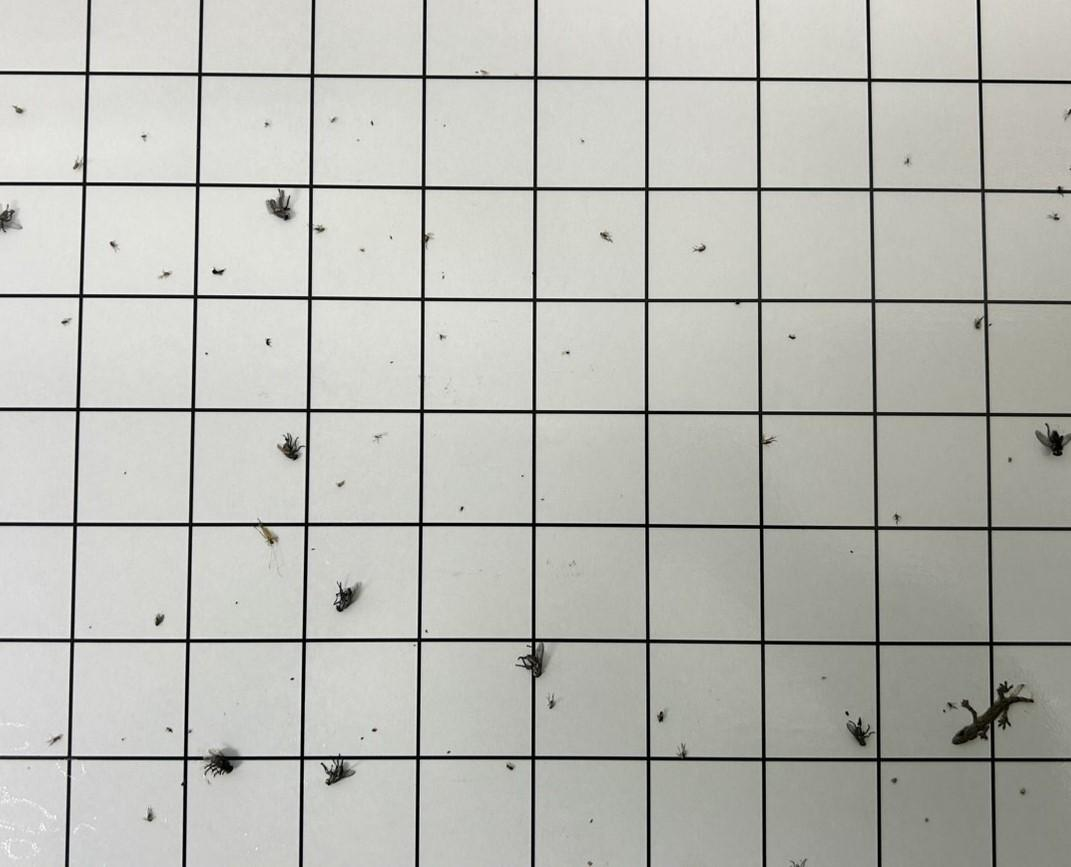fly: (1033, 421, 1071, 459), (318, 751, 358, 787), (515, 640, 547, 679), (265, 185, 296, 223), (200, 748, 234, 780), (328, 579, 359, 612), (275, 431, 307, 462), (846, 719, 878, 749), (0, 201, 24, 235)
test: (950, 677, 1039, 749), (253, 515, 281, 546), (141, 805, 159, 824), (673, 741, 689, 761), (598, 228, 615, 245), (46, 731, 64, 747), (543, 693, 558, 712), (420, 231, 436, 248), (371, 431, 388, 446), (158, 266, 175, 281), (691, 241, 707, 256), (69, 155, 85, 170), (760, 433, 777, 447), (152, 611, 166, 628), (209, 265, 228, 277), (107, 239, 122, 254), (972, 313, 985, 330), (310, 221, 327, 234), (10, 103, 27, 116), (891, 511, 903, 527), (655, 709, 667, 724), (1055, 183, 1067, 197), (1048, 210, 1061, 222), (262, 335, 274, 348), (503, 760, 515, 773), (60, 315, 73, 327), (164, 723, 175, 737), (474, 67, 489, 77), (334, 478, 347, 489), (1018, 786, 1029, 797), (140, 132, 151, 143), (731, 296, 741, 308), (328, 115, 340, 125), (903, 155, 912, 168), (787, 331, 797, 342), (945, 699, 956, 709), (842, 707, 852, 718), (921, 814, 931, 825), (890, 776, 900, 786), (940, 706, 949, 717), (588, 815, 597, 826), (179, 778, 188, 789), (438, 332, 447, 342), (1005, 455, 1015, 464), (440, 273, 449, 283), (358, 245, 367, 254), (585, 858, 594, 867), (370, 726, 379, 735), (187, 726, 196, 735), (262, 120, 271, 129), (367, 119, 377, 127), (563, 348, 572, 356), (289, 674, 297, 683), (444, 748, 452, 757), (819, 674, 828, 682), (458, 504, 466, 512), (387, 233, 394, 242), (422, 627, 430, 634), (848, 548, 855, 556), (122, 469, 129, 477), (203, 349, 210, 357), (579, 137, 586, 145), (519, 472, 526, 479), (309, 545, 316, 552), (388, 359, 395, 365), (539, 496, 545, 502), (358, 735, 365, 740), (234, 599, 239, 605)
